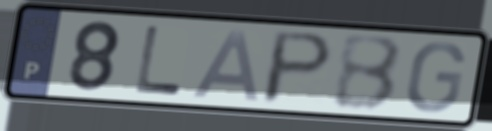8: (66, 18, 122, 94)
A: (188, 27, 263, 104)
B: (330, 34, 406, 114)
G: (403, 39, 469, 116)
L: (132, 23, 184, 98)
P: (257, 29, 338, 107)
